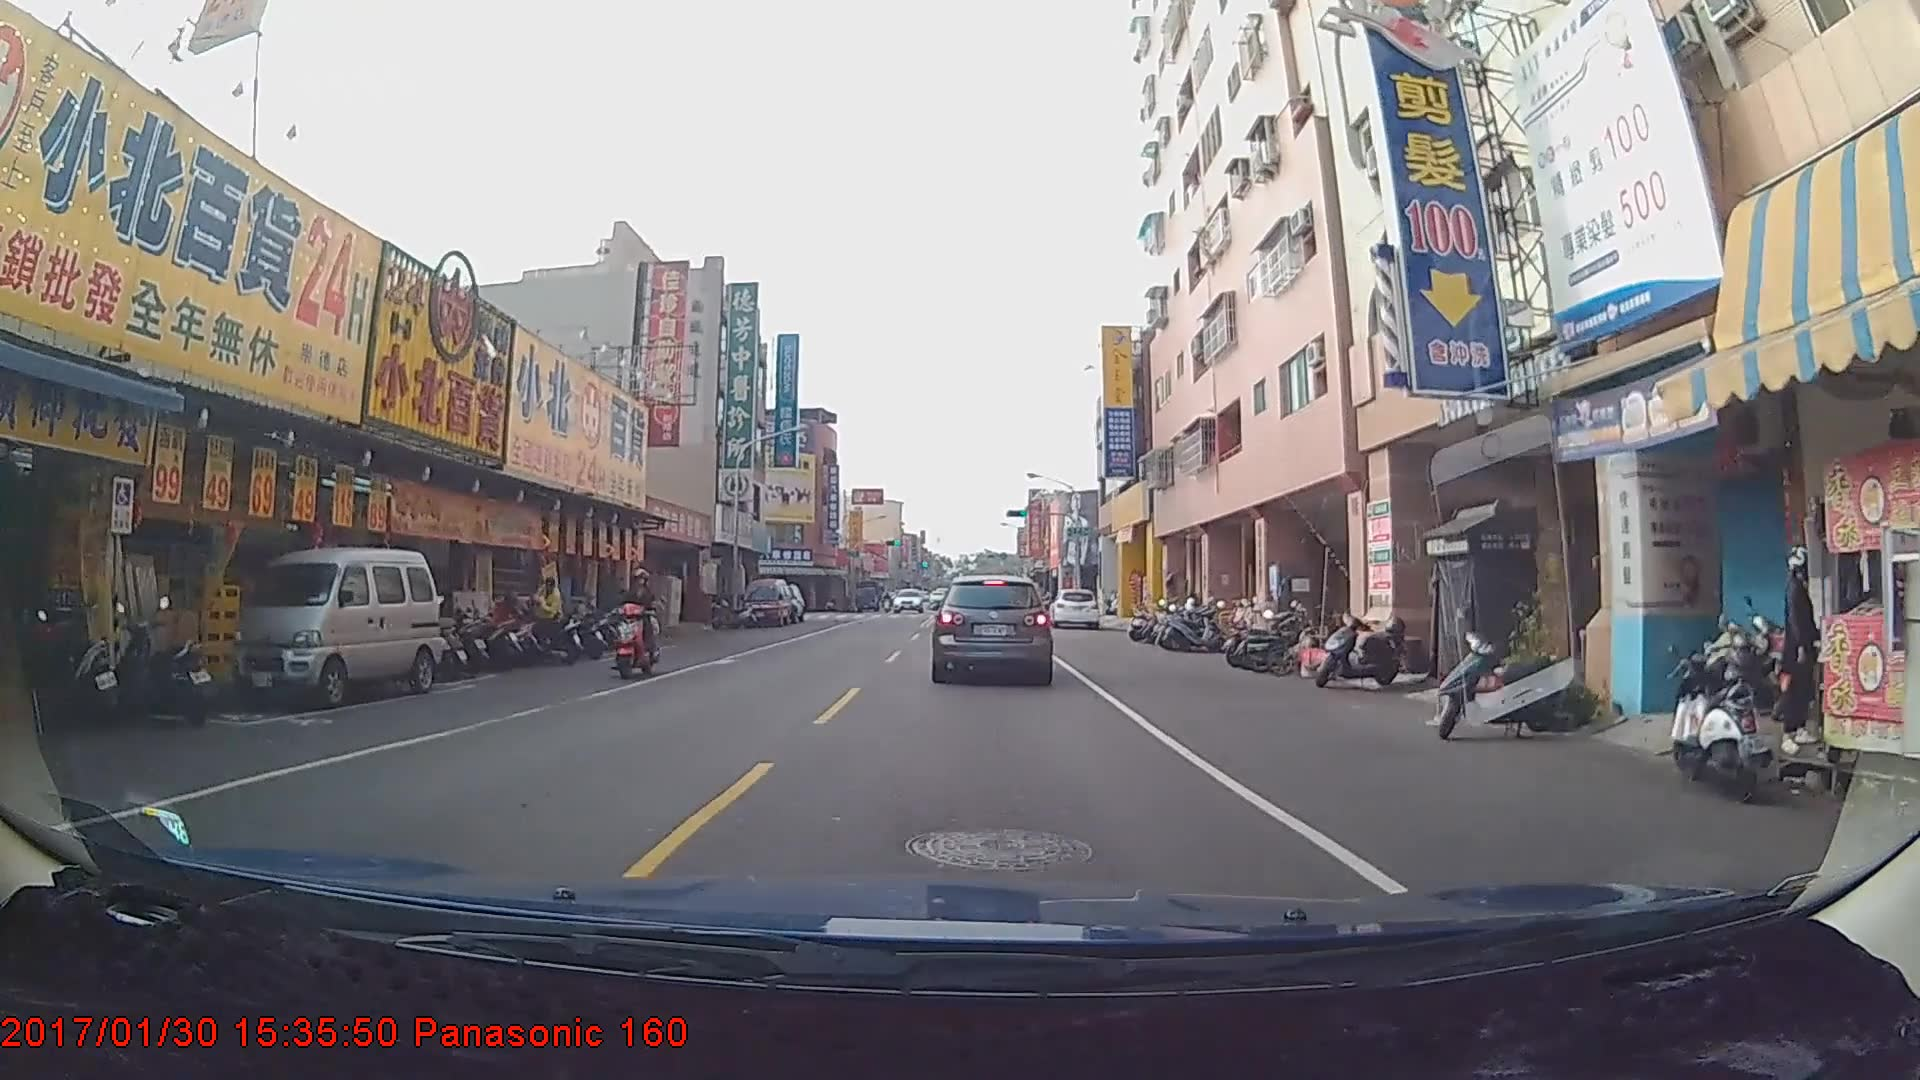pedestrian: (529, 575, 567, 660)
rider: (605, 566, 668, 679)
vehicle: (229, 549, 437, 702), (933, 573, 1052, 682), (739, 577, 790, 626), (1046, 588, 1099, 631), (890, 580, 920, 604)
